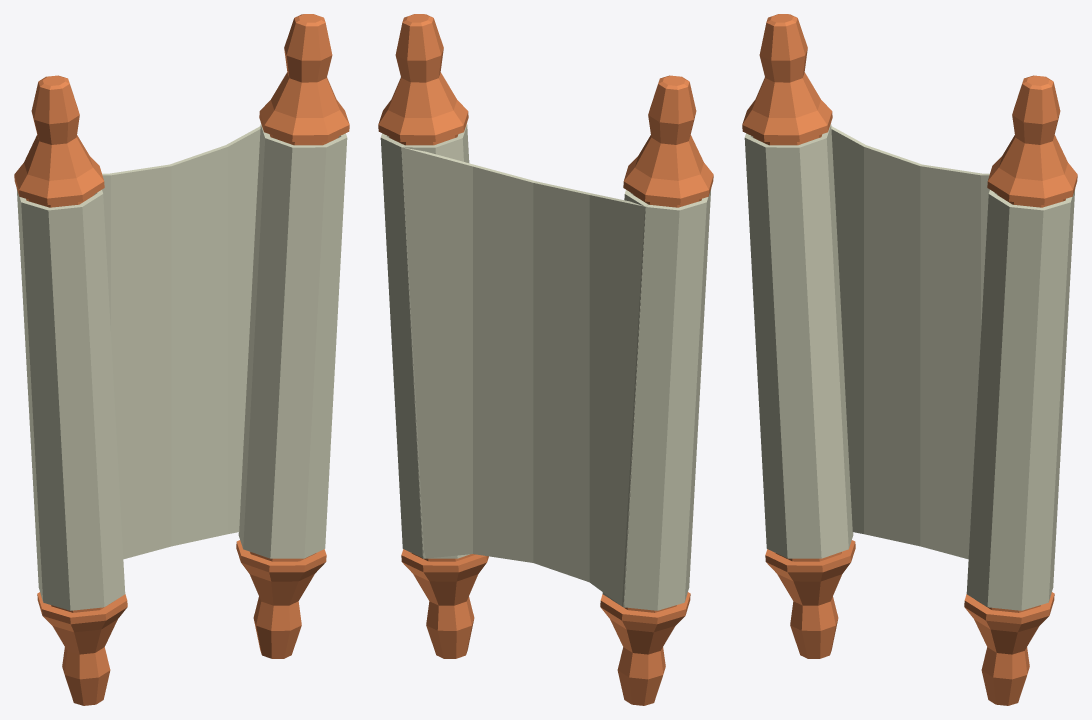
File: magic scroll.fbx
3 views of the same model, side by side, from view 1: azimuth 30°, elevation 25°; view 2: azimuth 150°, elevation 25°; view 3: azimuth 330°, elevation 25° (orthographic).
Visible parts, largest first — view 1: Plane.003; view 2: Plane.003; view 3: Plane.003.
Part boxes in pixels (x1=…): Plane.003: x1=14, y1=14, x2=349, y2=705; Plane.003: x1=378, y1=14, x2=713, y2=705; Plane.003: x1=742, y1=14, x2=1077, y2=705.
Size of the model in its own units: 168 by 310 by 41.6.
